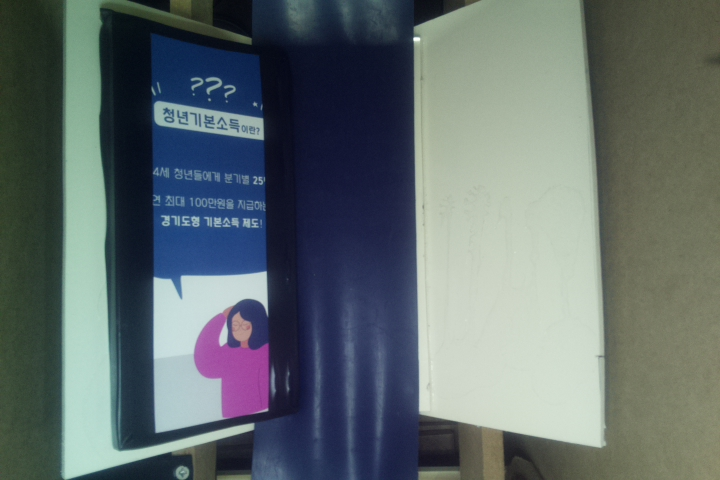book: (100, 10, 303, 450)
